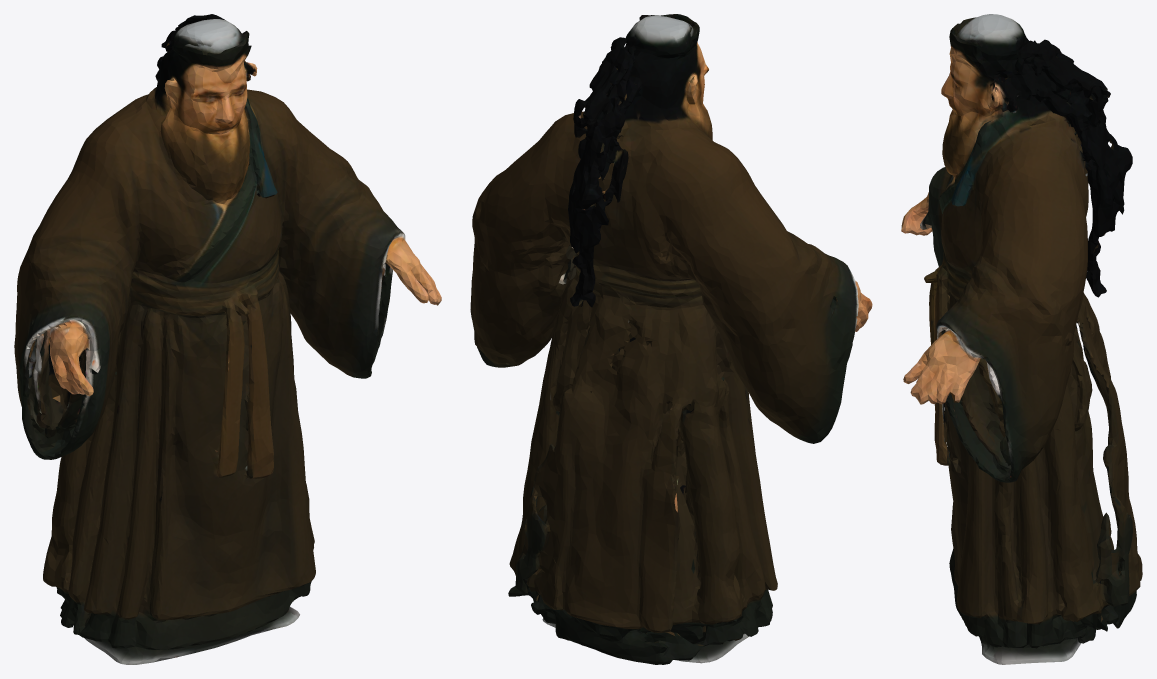
The picture shows the model from 3 angles, left to right: view 1: azimuth 30°, elevation 25°; view 2: azimuth 150°, elevation 25°; view 3: azimuth 270°, elevation 25°; orthographic projection. The views are drawn at different scales.
Parts seen in each view (by area): view 1: tmplsdufe7y.ply; view 2: tmplsdufe7y.ply; view 3: tmplsdufe7y.ply.
Part boxes in pixels (box(x1,y1,x2,y2)): tmplsdufe7y.ply: box(14, 14, 441, 664); tmplsdufe7y.ply: box(470, 14, 872, 664); tmplsdufe7y.ply: box(901, 14, 1142, 664).
Size of the model in its own units: 1.31 by 1.96 by 0.7155.
Materials: 1 (1 with a texture image).
